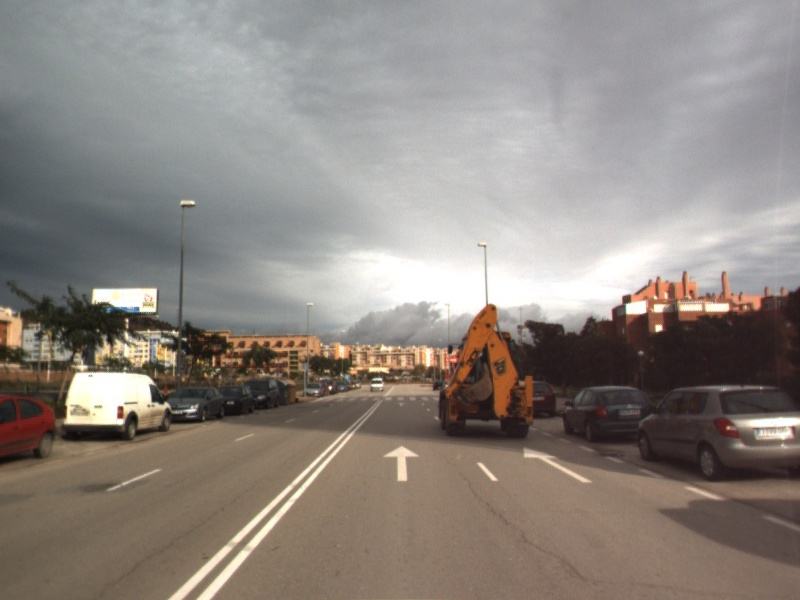STRAIGHT: (521, 444, 595, 484), (381, 444, 422, 483)
